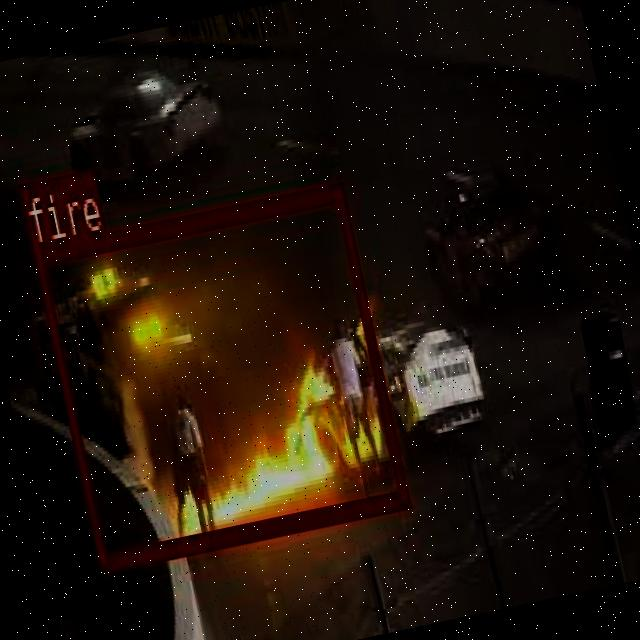fire: (30, 179, 408, 570)
